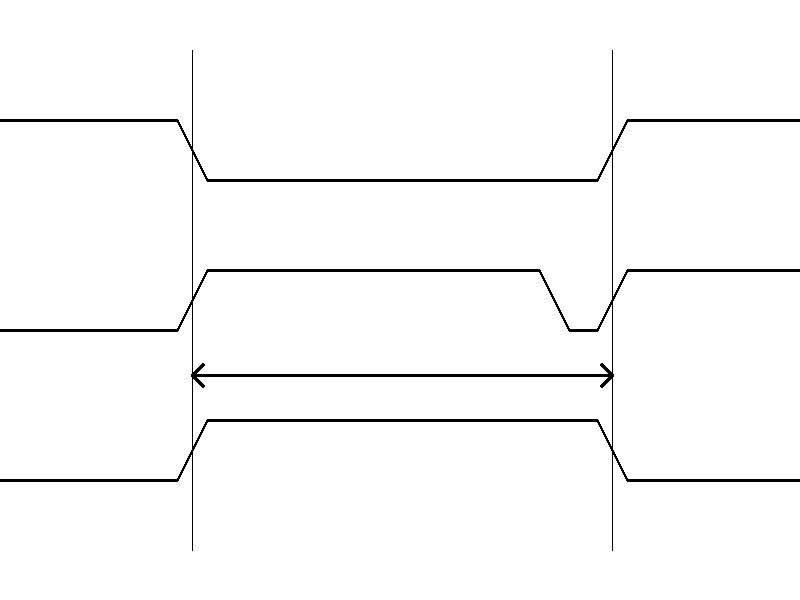double_arrow: (192, 360, 612, 390)
